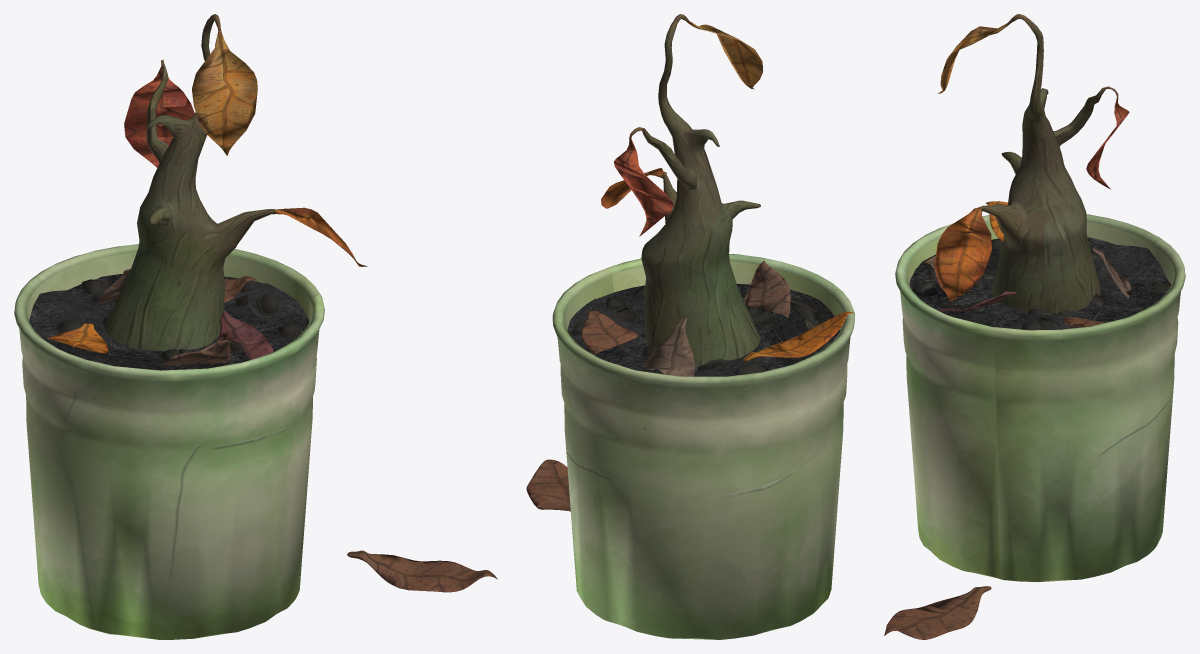
File: dried_plant.glb
3 renders of one model, left to right at view 1: azimuth 30°, elevation 25°; view 2: azimuth 150°, elevation 25°; view 3: azimuth 270°, elevation 25°, orthographic. The views are drawn at different scales.
Parts seen in each view (by area): view 1: Flower_Pot, Flower, Dirt_Flower_MAT_0.001, Leave_6, Leave_2, Leave_5, Leave_1; view 2: Flower_Pot, Flower, Dirt_Flower_MAT_0.001, Leave_6, Leave_4, Leave_1, Leave_5, Leave_3, Dirt, Dirt_Flower_MAT_0.002; view 3: Flower_Pot, Flower, Dirt_Flower_MAT_0.001, Leave_6, Dirt, Dirt_Flower_MAT_0.002, Leave_4.
Boxes of the visible parts, x1,y1,x2,y2 form: Flower_Pot: (14,244,324,639); Flower: (106,14,367,351); Dirt_Flower_MAT_0.001: (29,274,316,370); Leave_6: (347,550,497,592); Leave_2: (218,310,273,359); Leave_5: (161,340,232,366); Leave_1: (47,323,108,353); Flower_Pot: (552,254,854,639); Flower: (601,14,762,370); Dirt_Flower_MAT_0.001: (564,284,840,376); Leave_6: (526,459,570,511); Leave_4: (642,317,695,429); Leave_1: (743,311,854,361); Leave_5: (743,261,790,317); Leave_3: (581,310,637,353); Dirt: (615,302,819,370); Dirt_Flower_MAT_0.002: (571,313,771,375); Flower_Pot: (895,214,1185,582); Flower: (934,14,1129,313); Dirt_Flower_MAT_0.001: (909,237,1171,337); Leave_6: (884,586,991,639); Dirt: (967,293,1104,325); Dirt_Flower_MAT_0.002: (912,252,1101,296); Leave_4: (1091,247,1130,299).
Bounding box in the file's own units: 0.3637 × 0.5237 × 0.2677.
2 materials, 2 textured.
